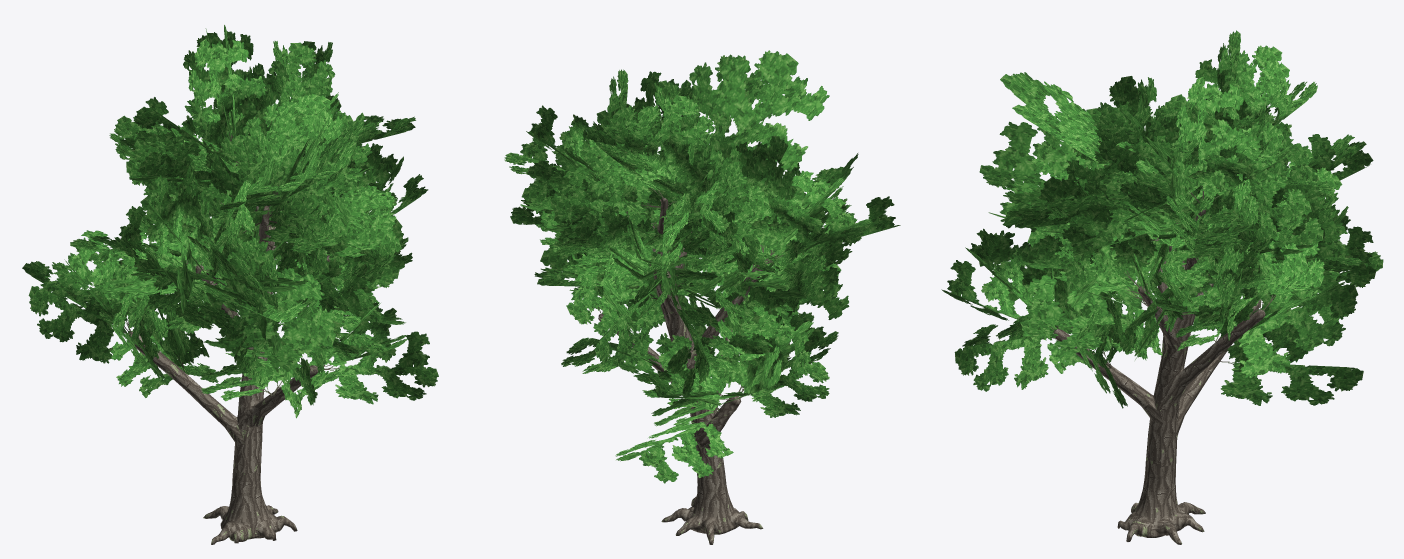
Rendered from environment_elm6_v57.fbx.
The picture shows the model from 3 angles, left to right: view 1: azimuth 30°, elevation 25°; view 2: azimuth 150°, elevation 25°; view 3: azimuth 270°, elevation 25°; orthographic projection. The views are drawn at different scales.
Parts seen in each view (by area): view 1: environment_elm6_v57_lod0; view 2: environment_elm6_v57_lod0; view 3: environment_elm6_v57_lod0.
Part boxes in pixels (x1=…): environment_elm6_v57_lod0: x1=22, y1=25, x2=438, y2=544; environment_elm6_v57_lod0: x1=504, y1=50, x2=900, y2=544; environment_elm6_v57_lod0: x1=941, y1=30, x2=1383, y2=544.
Size of what is drawn, in the model's own units: 2279 by 2717 by 2222.
Materials: 2 (2 with a texture image).
